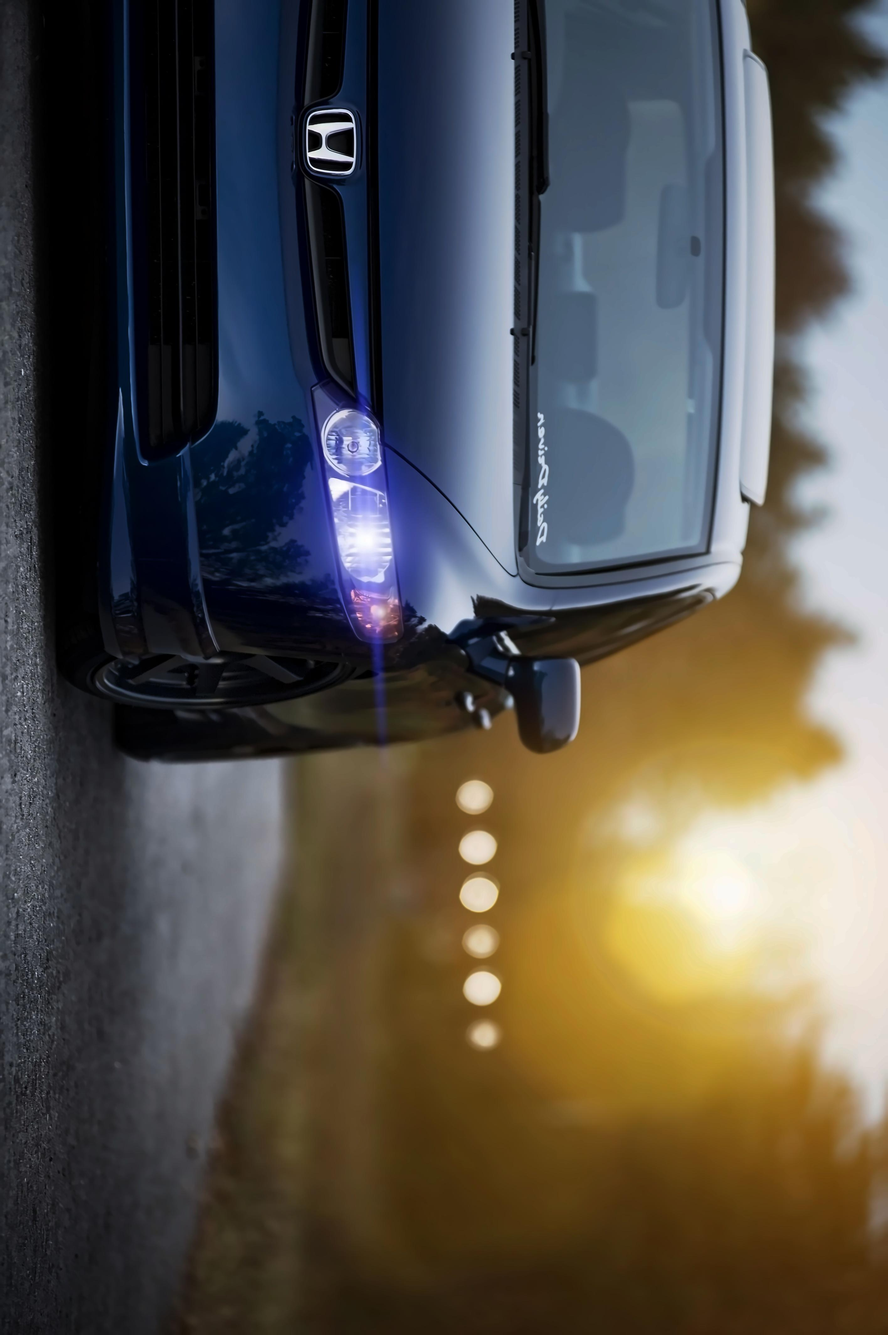Car hood: (361, 0, 537, 589)
Front bumper: (60, 7, 345, 687)
Headlight - -L-: (295, 374, 409, 656)
Side mirror - -L-: (474, 625, 590, 773)
